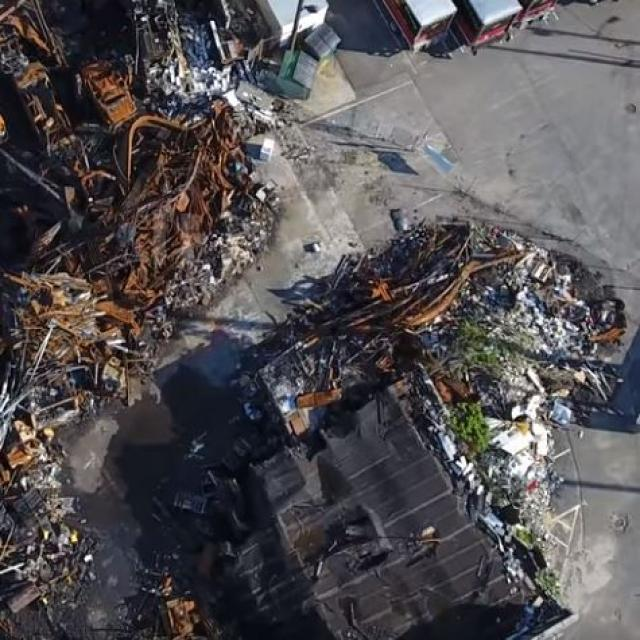collapsed_building: (239, 228, 555, 638), (0, 4, 218, 422)
